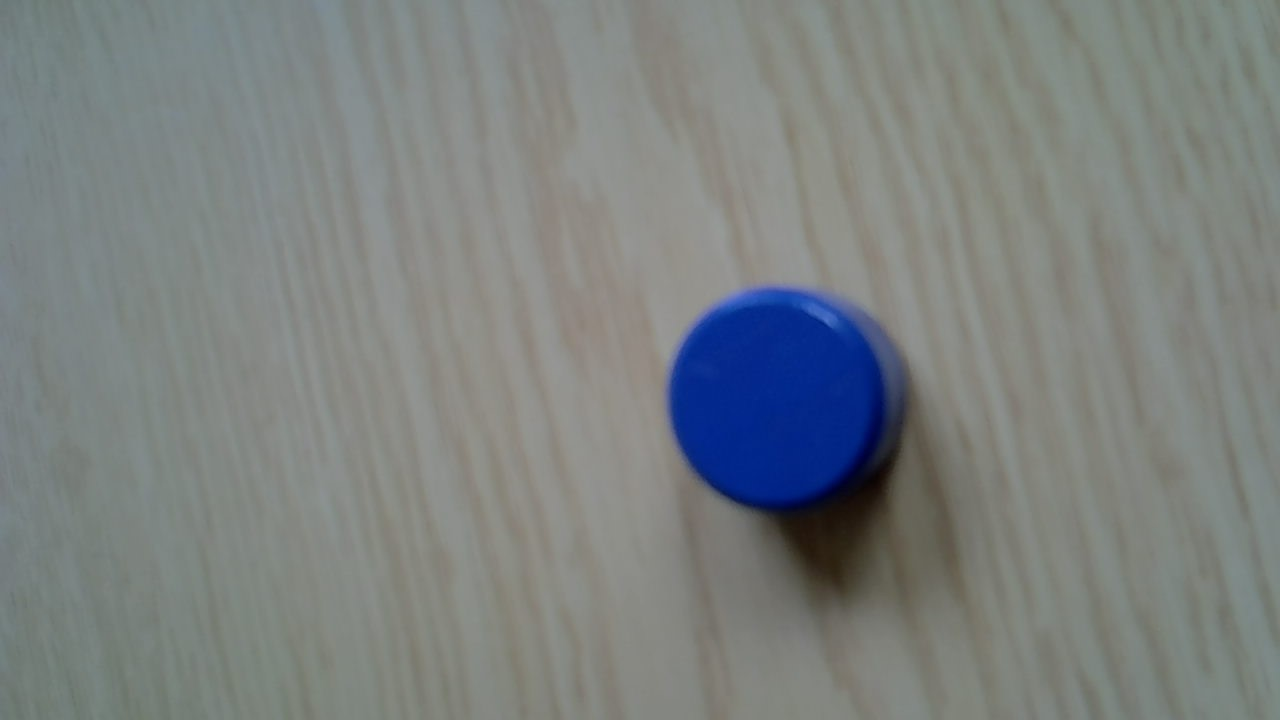WerkStueck: (666, 284, 910, 515)
